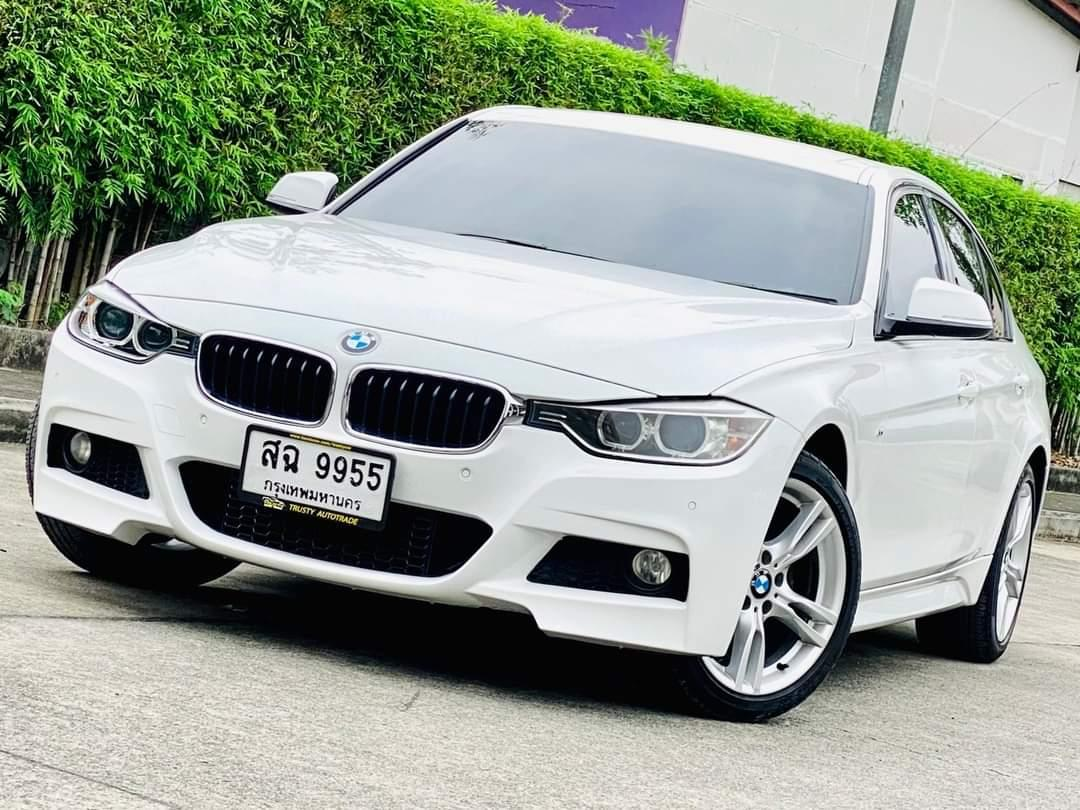license-plate: (235, 421, 401, 530)
